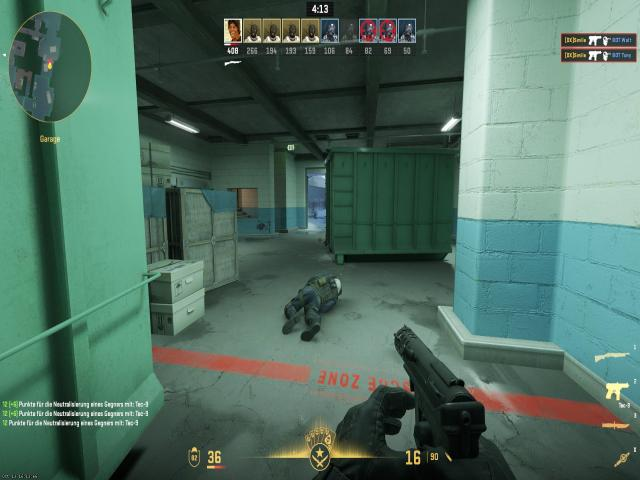Dead: (284, 272, 346, 334)
